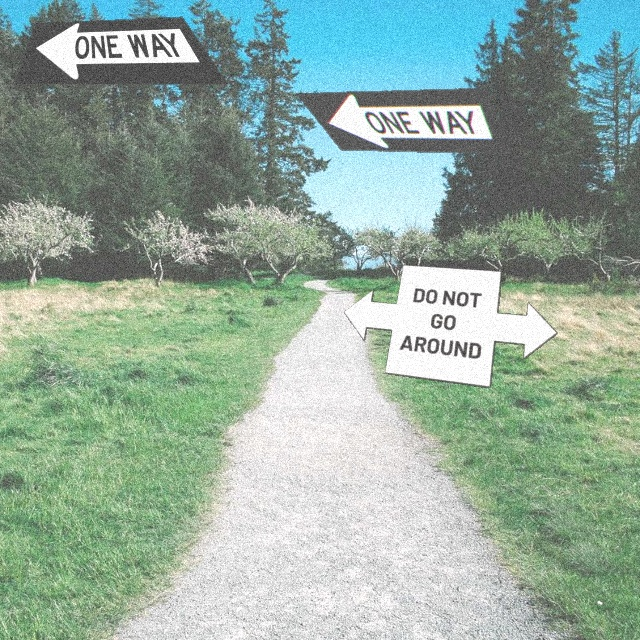DO_NOT_GO_AROUND: (343, 264, 558, 388)
ONE_WAY_ left: (14, 16, 229, 85), (295, 87, 510, 154)
